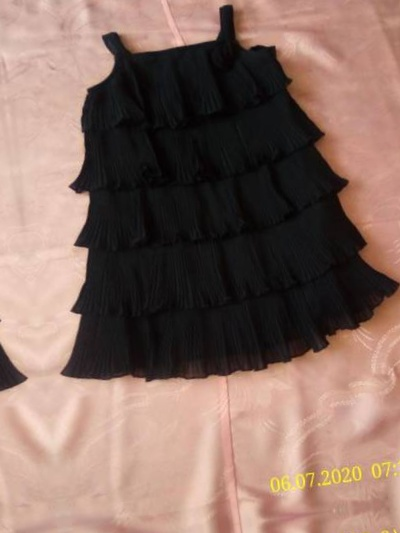Dress: (30, 0, 400, 409), (0, 44, 16, 463)
